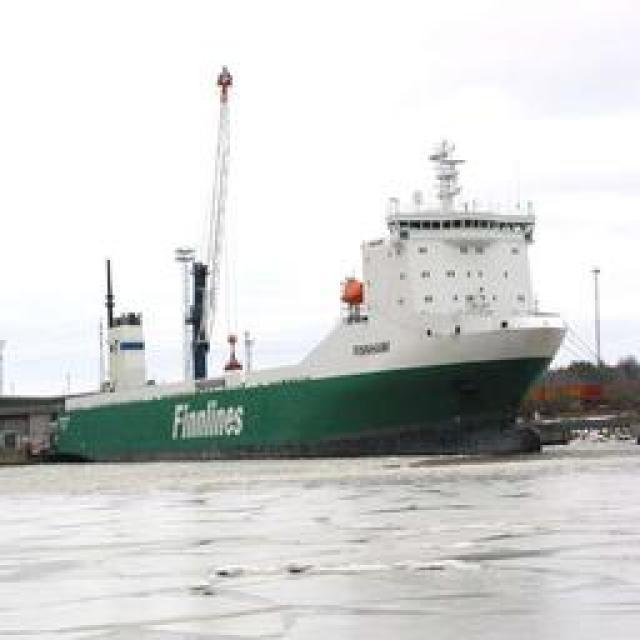ship2: (51, 141, 568, 464)
